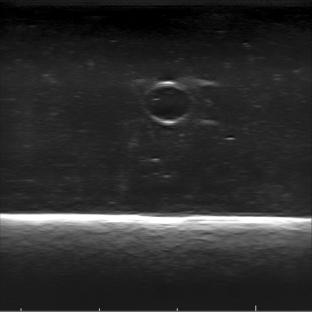vessel: (143, 79, 194, 125)
